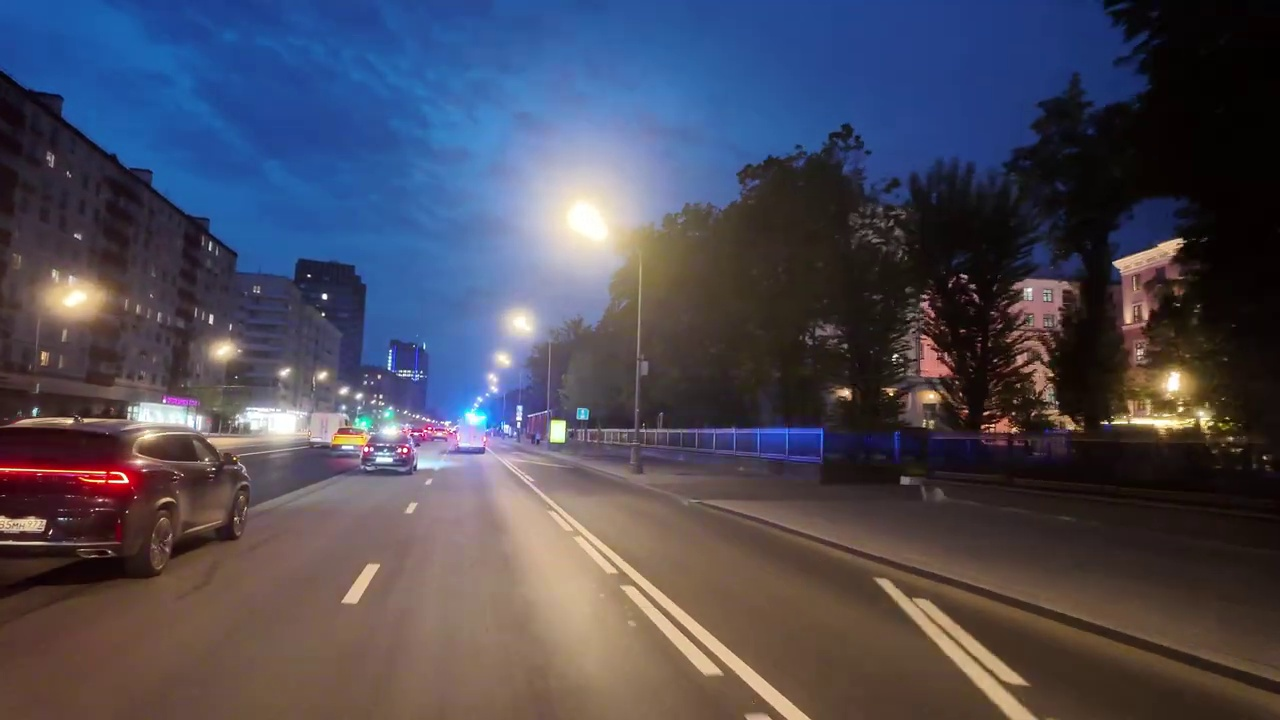acesa: (557, 193, 616, 250), (50, 282, 101, 319), (506, 308, 536, 336), (207, 338, 238, 365)
